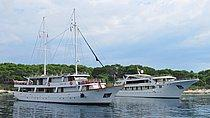Ship: (10, 69, 132, 109), (111, 69, 209, 105)
